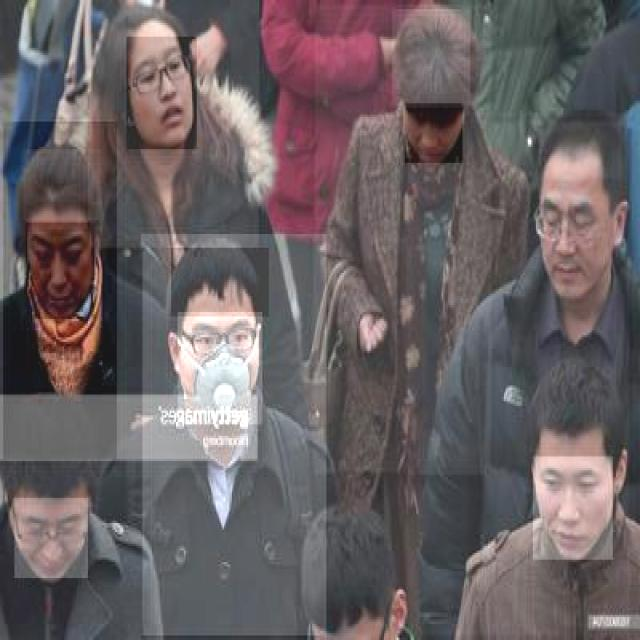face_mask: (178, 312, 262, 424)
face_nomask: (531, 456, 613, 562), (539, 190, 613, 305), (126, 37, 197, 149), (26, 222, 94, 319), (13, 498, 88, 580), (403, 103, 462, 165)
glasses: (133, 45, 192, 102), (187, 320, 258, 361), (536, 204, 602, 246), (12, 521, 95, 553)
head_nohelmet: (390, 9, 470, 108), (528, 374, 626, 452), (171, 248, 269, 316), (21, 149, 101, 223), (538, 122, 622, 181), (104, 7, 189, 46)
person: (405, 112, 629, 638), (314, 4, 491, 475), (141, 234, 326, 638), (459, 348, 632, 638), (88, 0, 259, 250), (2, 122, 116, 461)
